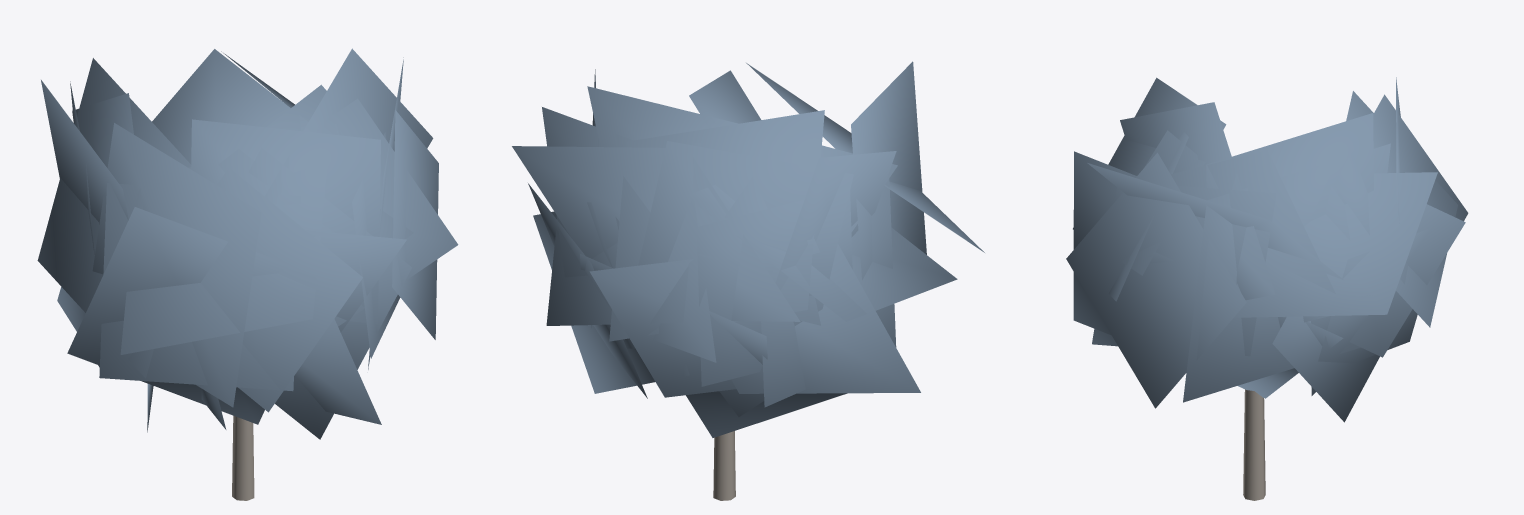
The model's file is oak2.glb.
The picture shows the model from 3 angles, left to right: view 1: azimuth 30°, elevation 25°; view 2: azimuth 150°, elevation 25°; view 3: azimuth 270°, elevation 25°; orthographic projection.
Visible parts, largest first — view 1: leaves, bark; view 2: leaves, bark; view 3: leaves, bark.
Boxes of the visible parts, x1,y1,x2,y2 form: leaves: (37, 48, 458, 439); bark: (232, 415, 254, 500); leaves: (512, 61, 984, 437); bark: (713, 431, 735, 500); leaves: (1066, 77, 1468, 422); bark: (1243, 389, 1265, 500).
Bounding box in the file's own units: 13.93 × 14.38 × 14.8.
